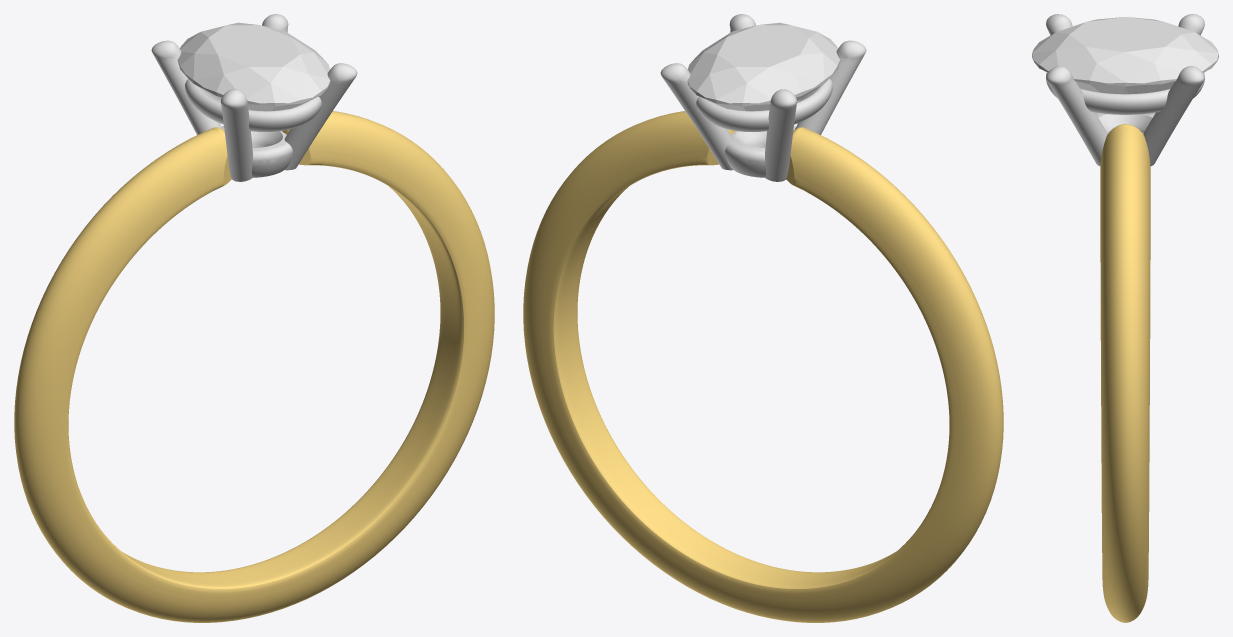
File: Tyler_Enright_Straight.glb
3 renders of one model, left to right at view 1: azimuth 30°, elevation 25°; view 2: azimuth 150°, elevation 25°; view 3: azimuth 270°, elevation 25°, orthographic.
Parts seen in each view (by area): view 1: Tyler straight YG for 3d model, Tyler straight PT for 3d model, Tyler dia for 3d model; view 2: Tyler straight YG for 3d model, Tyler straight PT for 3d model, Tyler dia for 3d model; view 3: Tyler straight YG for 3d model, Tyler dia for 3d model, Tyler straight PT for 3d model.
Boxes of the visible parts, x1,y1,x2,y2 form: Tyler straight YG for 3d model: (14, 111, 494, 622); Tyler straight PT for 3d model: (151, 14, 357, 181); Tyler dia for 3d model: (177, 22, 330, 111); Tyler straight YG for 3d model: (523, 111, 1003, 622); Tyler straight PT for 3d model: (660, 14, 866, 181); Tyler dia for 3d model: (687, 22, 840, 111); Tyler straight YG for 3d model: (1100, 124, 1150, 622); Tyler dia for 3d model: (1032, 17, 1218, 94); Tyler straight PT for 3d model: (1046, 14, 1204, 165).
Size of the model in its own units: 21.54 by 24.59 by 7.4.
